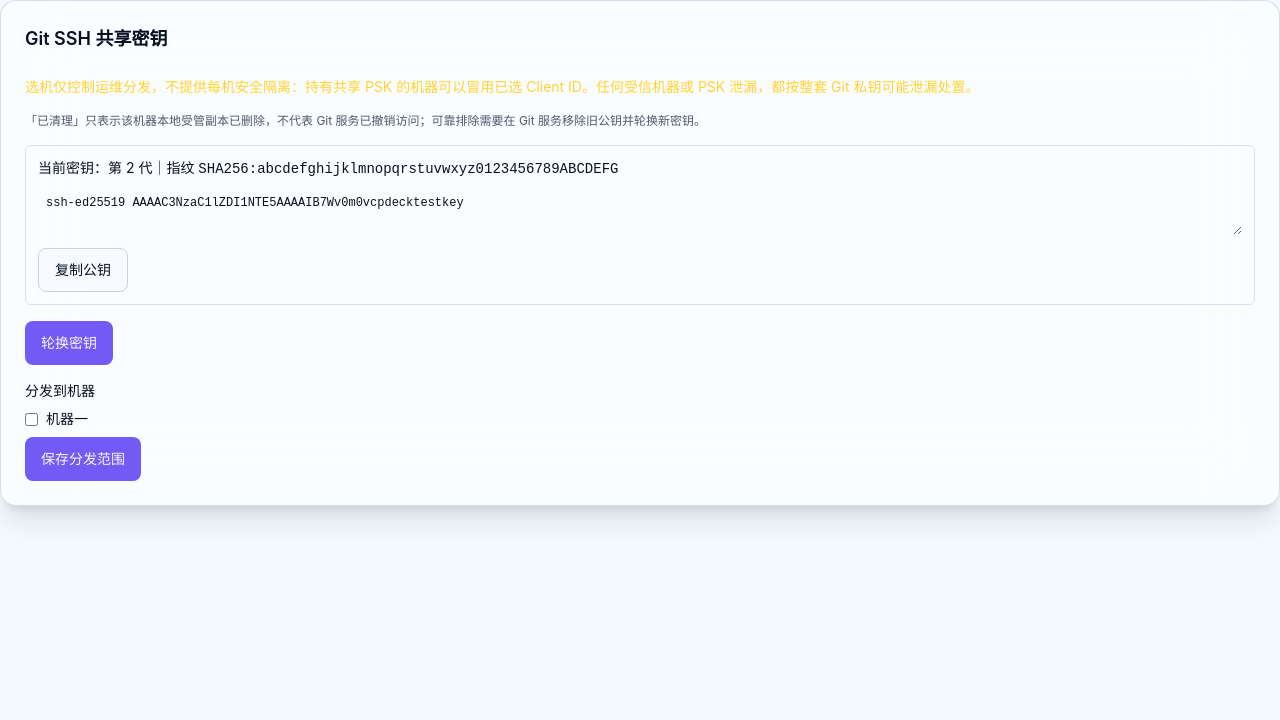
Test case: GitSshPanel › 服务端拒绝时展示错误并刷新真实状态
Click the button "保存分发范围".
click(83, 459)  # box [25,437,141,481]
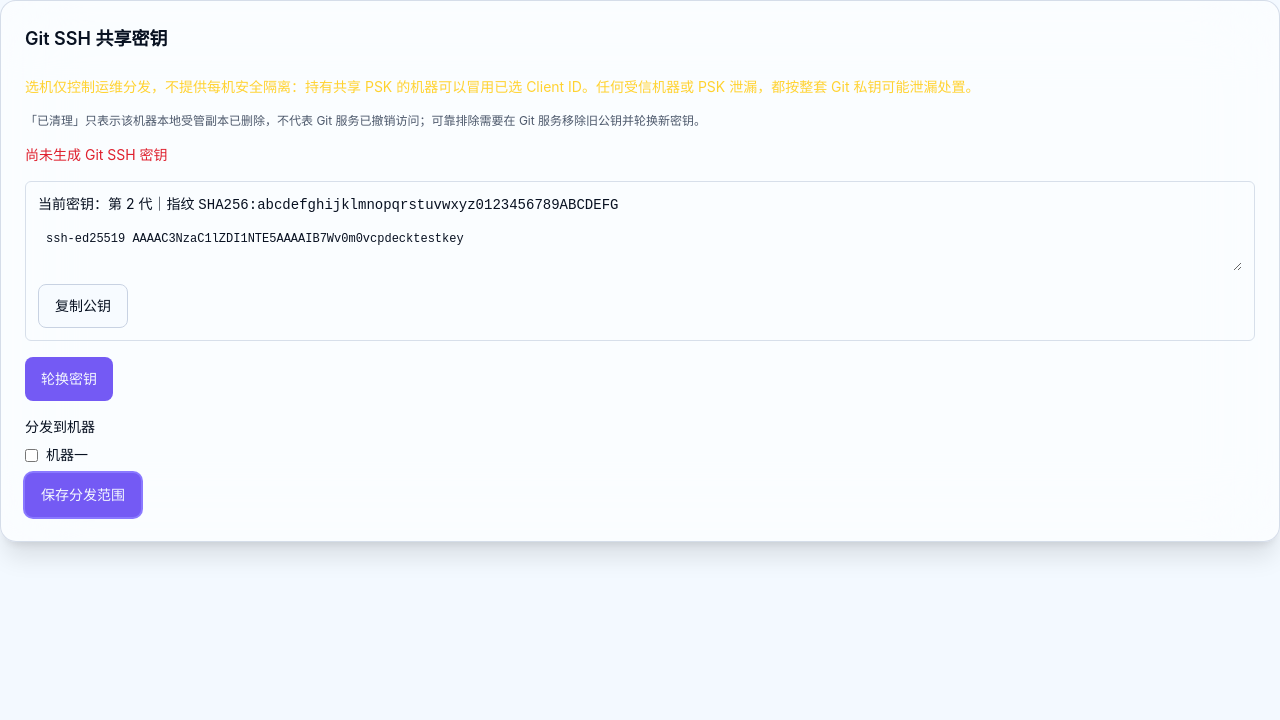
Expected: the text "尚未生成 Git SSH 密钥" is shown, [25,146,168,163]
